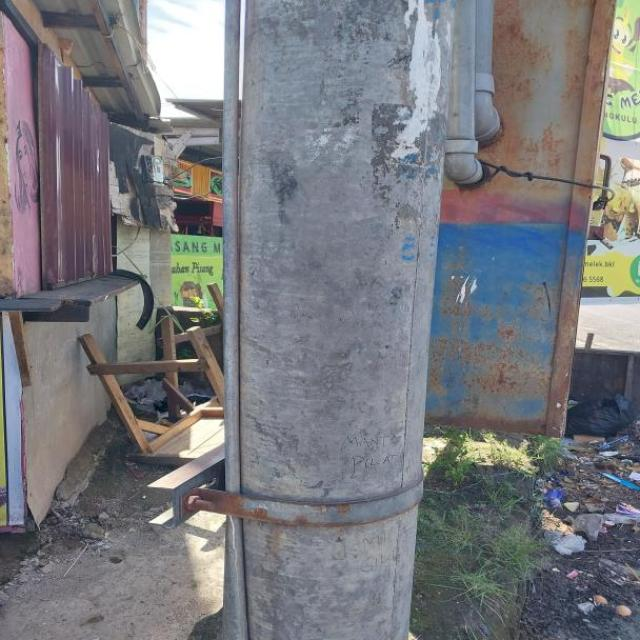electric pole ahead at: (209, 0, 450, 640)
